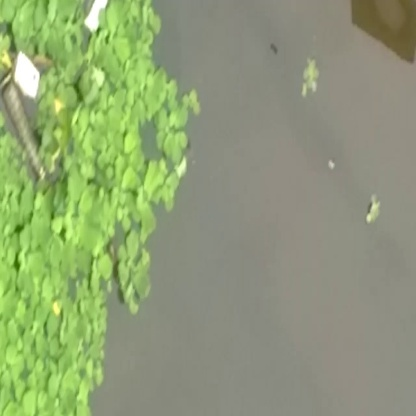grass: (81, 67, 194, 311)
